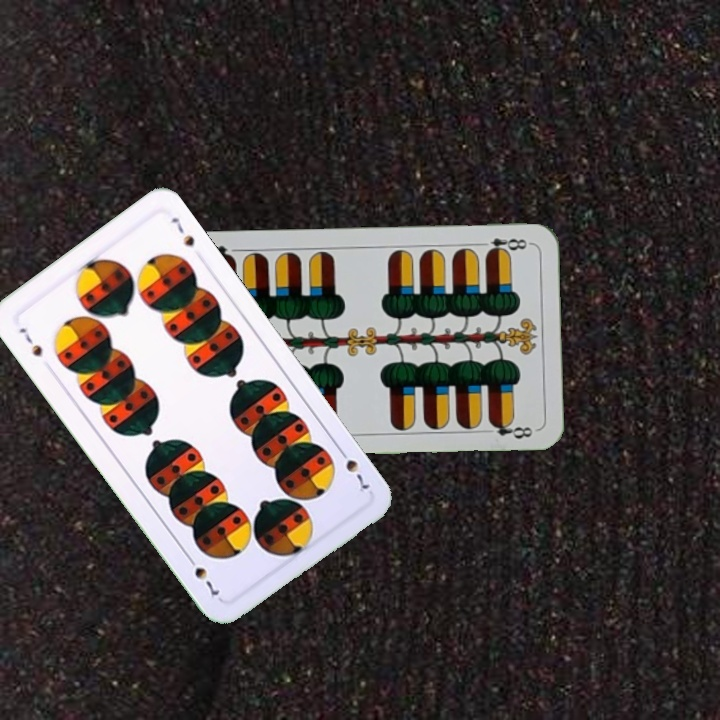E8: (474, 234, 533, 257)
S7: (334, 443, 374, 496), (14, 323, 45, 360)
